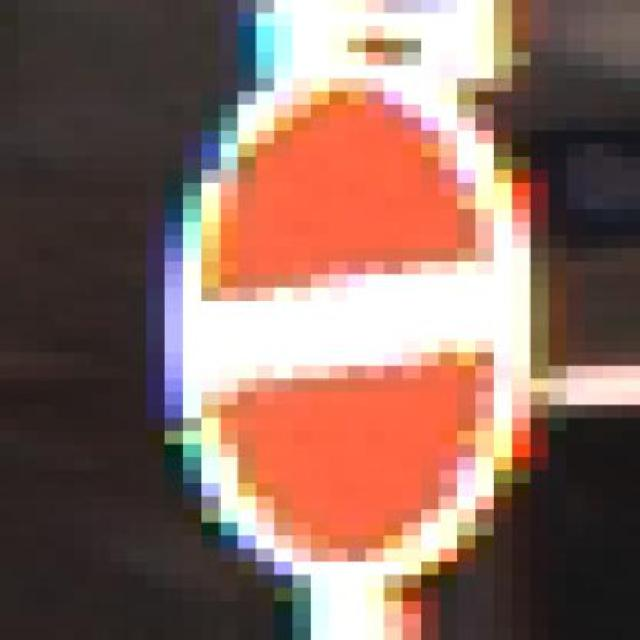No Entry: (128, 65, 549, 588)
